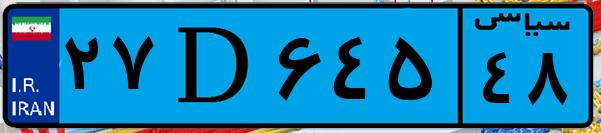2: (57, 26, 110, 100)
4: (330, 28, 385, 110), (475, 38, 525, 113)
5: (385, 28, 445, 110)
6: (270, 28, 330, 110)
7: (110, 28, 158, 98)
8: (525, 38, 570, 115)
D: (158, 12, 270, 120)
